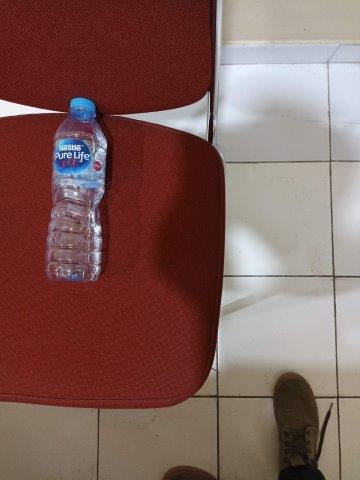botolplastik: (45, 98, 107, 281)
